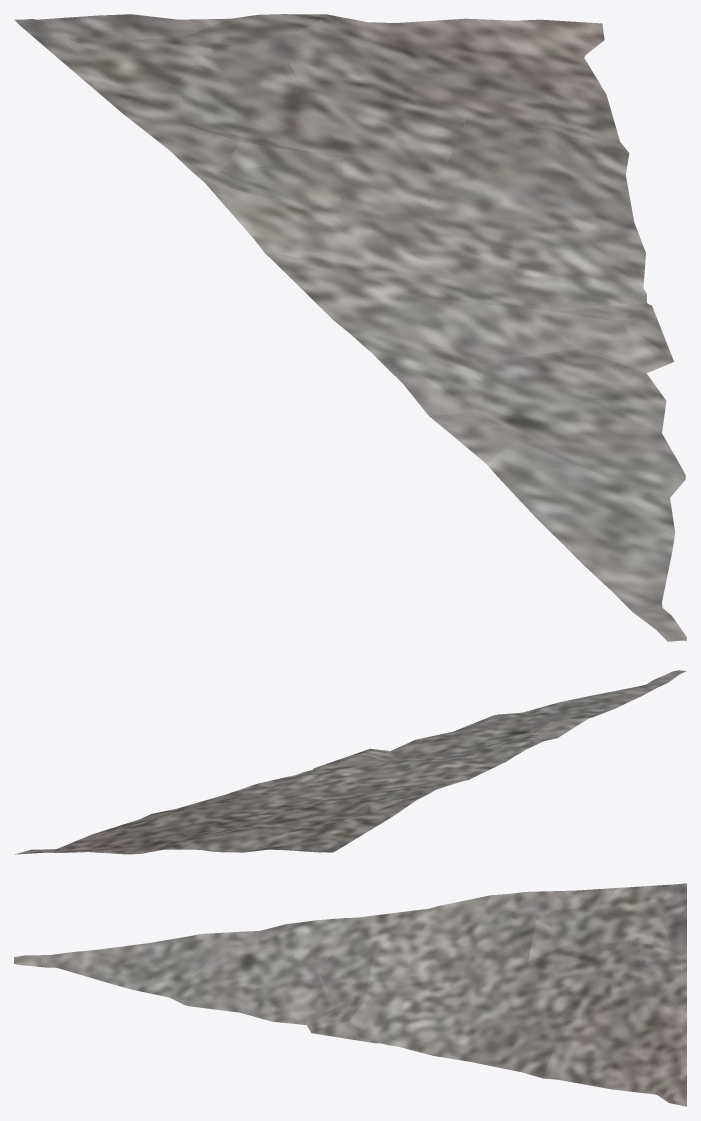
3 renders of one model, top to bottom at view 1: azimuth 30°, elevation 25°; view 2: azimuth 150°, elevation 25°; view 3: azimuth 270°, elevation 25°, orthographic. The views are drawn at different scales.
Size of the model in its own units: 0.4351 by 0.1041 by 0.8373.
1 material, 1 textured.
